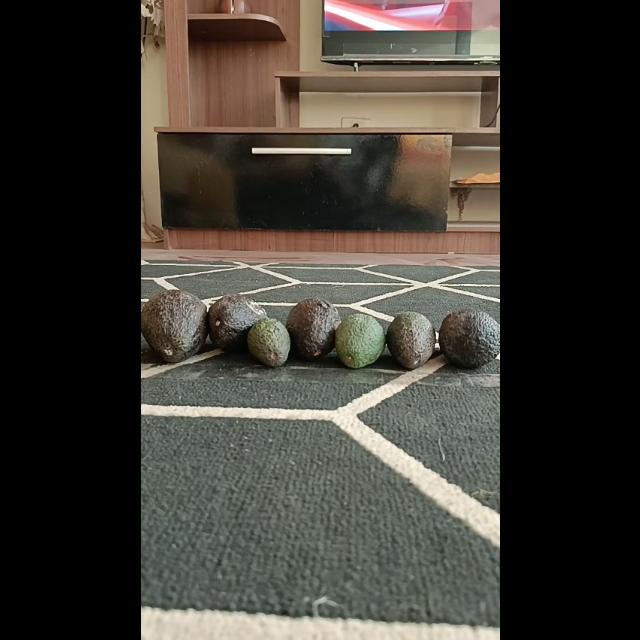Primera: (140, 290, 208, 362), (438, 309, 498, 369), (206, 294, 266, 352), (285, 298, 339, 360)
Segunda: (386, 311, 436, 369), (334, 314, 386, 368)
Tercera: (246, 317, 290, 367)
